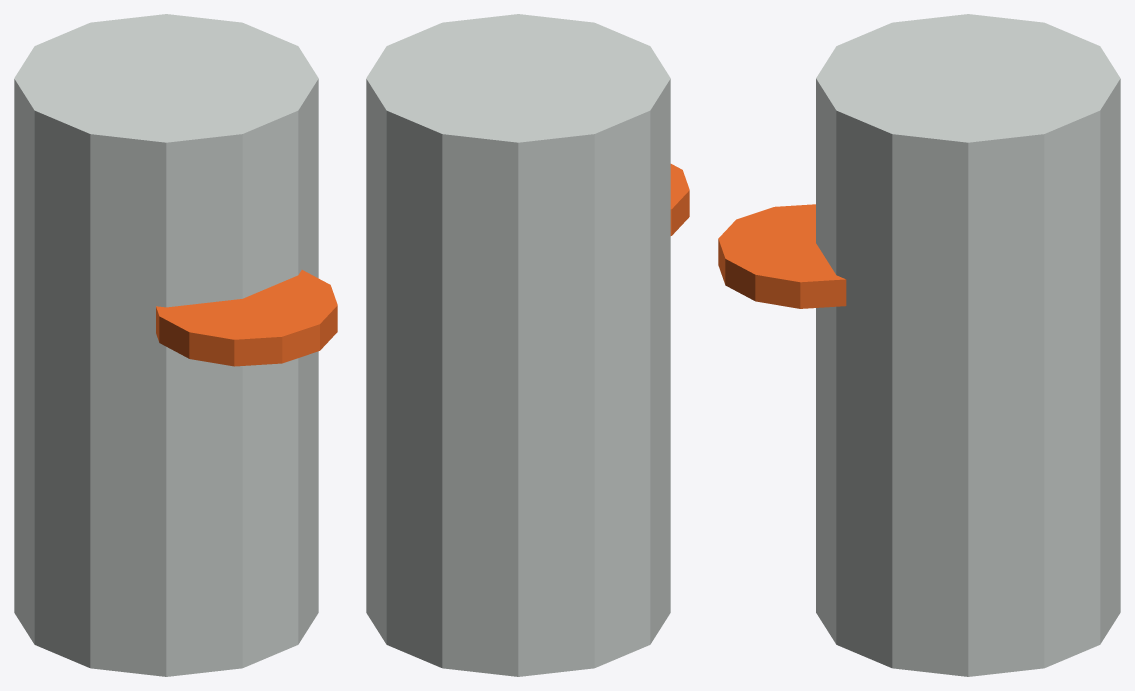
The model's file is LPK_LifeSupport_Scrubber.fbx.
The picture shows the model from 3 angles, left to right: view 1: azimuth 30°, elevation 25°; view 2: azimuth 150°, elevation 25°; view 3: azimuth 270°, elevation 25°; orthographic projection.
Parts seen in each view (by area): view 1: ScrubberBody, ScrubberFanPivot; view 2: ScrubberBody, ScrubberFanPivot; view 3: ScrubberBody, ScrubberFanPivot.
Part boxes in pixels (bbox=[...]): ScrubberBody: bbox=[14, 14, 318, 676]; ScrubberFanPivot: bbox=[156, 270, 337, 366]; ScrubberBody: bbox=[366, 14, 670, 676]; ScrubberFanPivot: bbox=[670, 164, 689, 235]; ScrubberBody: bbox=[816, 14, 1120, 676]; ScrubberFanPivot: bbox=[718, 204, 846, 308].
Size of the model in its own units: 1.24 by 2.4 by 1.64.
